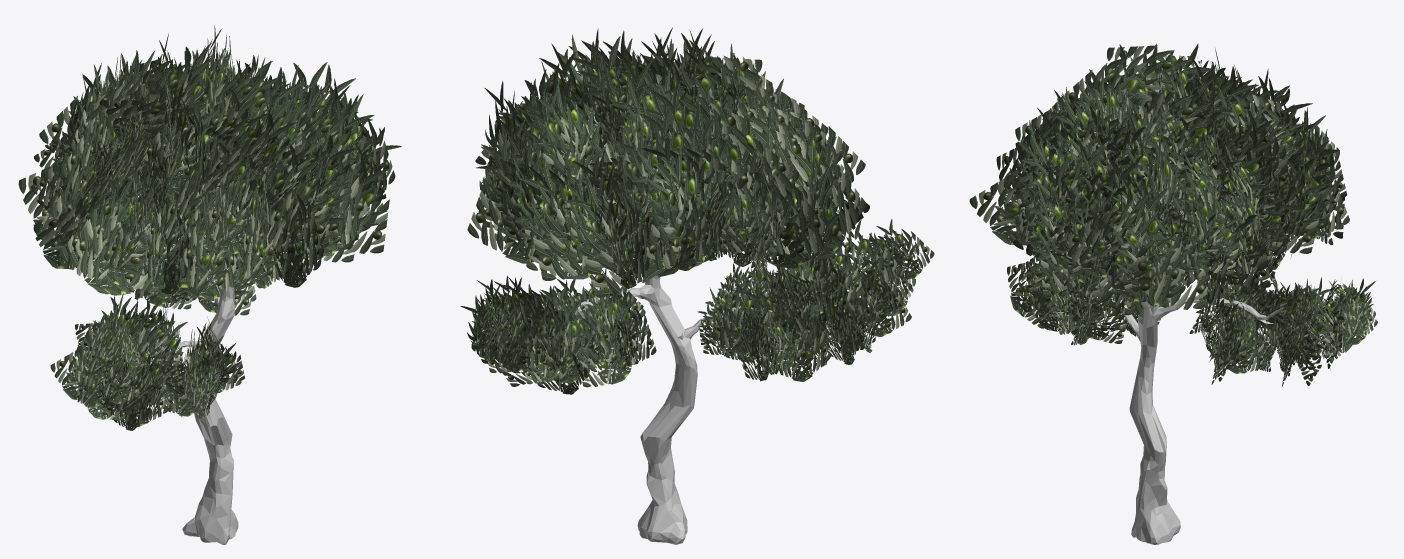
File: Pine2.fbx
3 renders of one model, left to right at view 1: azimuth 30°, elevation 25°; view 2: azimuth 150°, elevation 25°; view 3: azimuth 270°, elevation 25°, orthographic. The views are drawn at different scales.
Parts seen in each view (by area): view 1: Cylinder.001; view 2: Cylinder.001; view 3: Cylinder.001.
Part boxes in pixels (x1,y1,x2,y2): Cylinder.001: [18, 25, 401, 544]; Cylinder.001: [460, 27, 934, 544]; Cylinder.001: [969, 43, 1377, 544].
Size of the model in its own units: 32.11 by 41.26 by 32.01.
